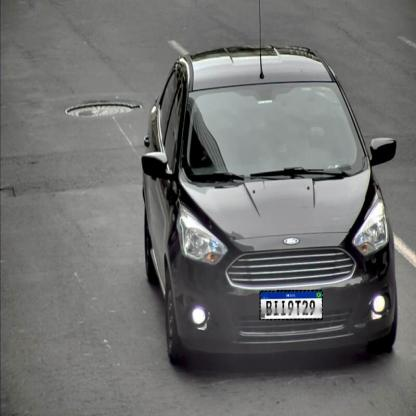PlacaM: (259, 290, 323, 320)
